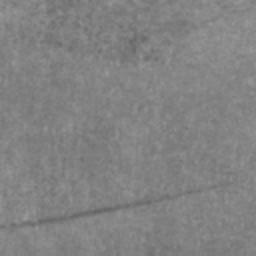Finishing roll printing: (0, 179, 236, 230)
